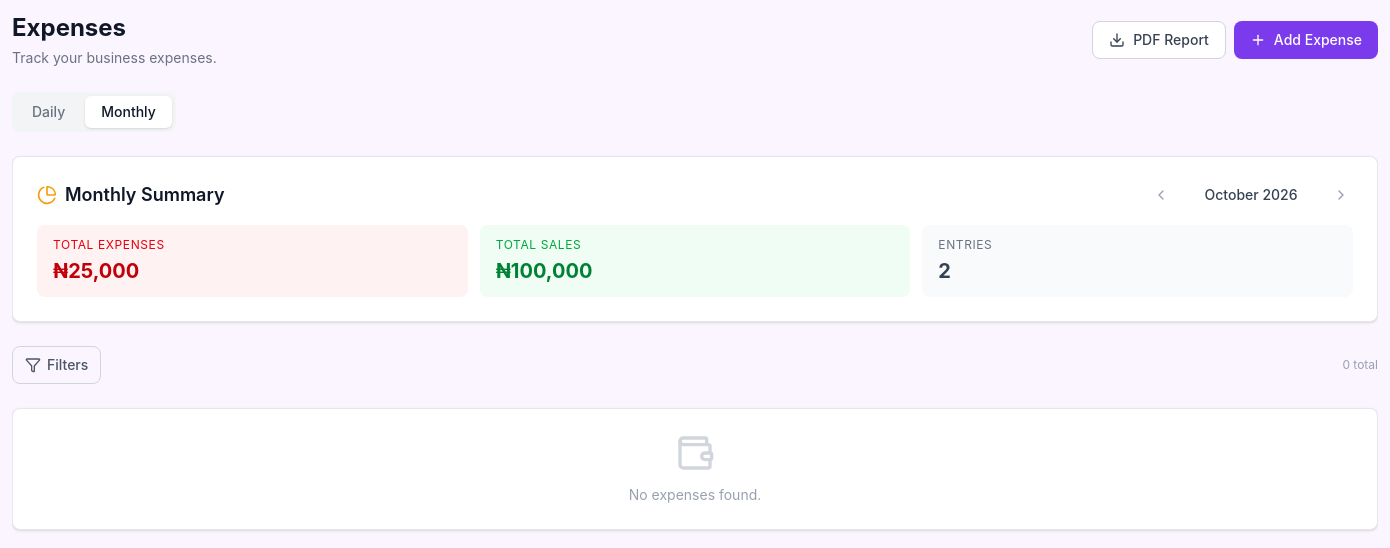
Scenario: Expenses Page - Race Condition & Sequence Guard Tests (Phase 4) › discards an earlier slow summary response when month is switched rapidly
Expected: the text "Loading summary..." is not shown
Expected: the text "Total Expenses" is shown, [53,237,165,252]
Note: Click left (Call 1 - slow)
Click the 5th button at (1161, 195), box [1149,183,1173,207]
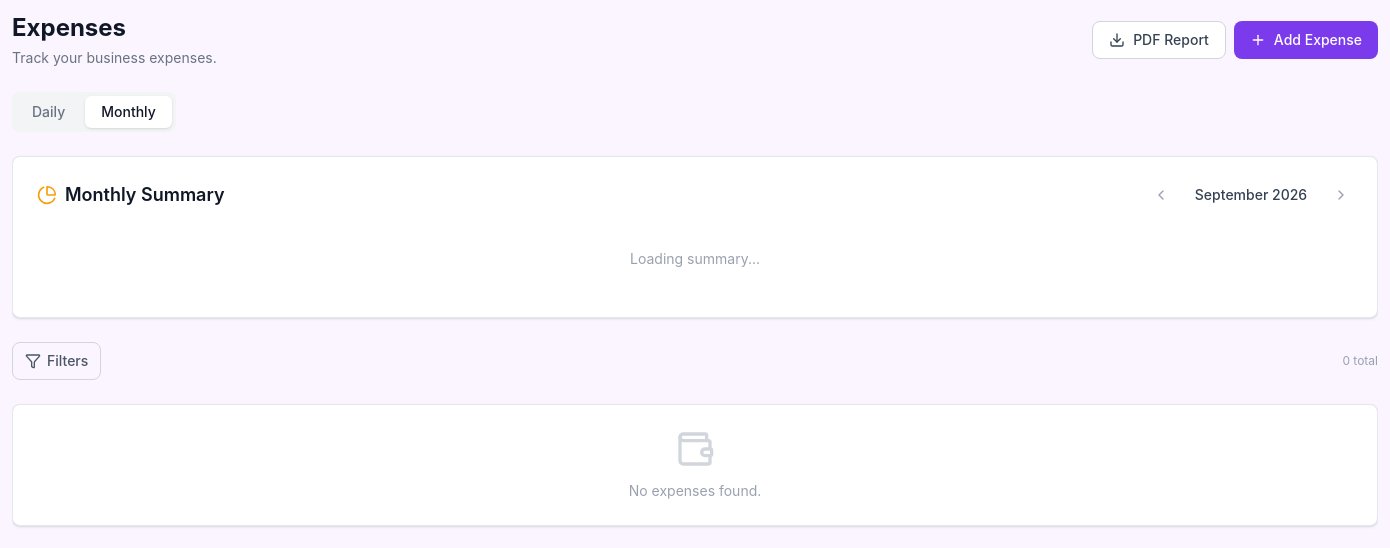
Note: Click right (Call 2 - fast)
Click the 6th button at (1341, 195), box [1329,183,1353,207]
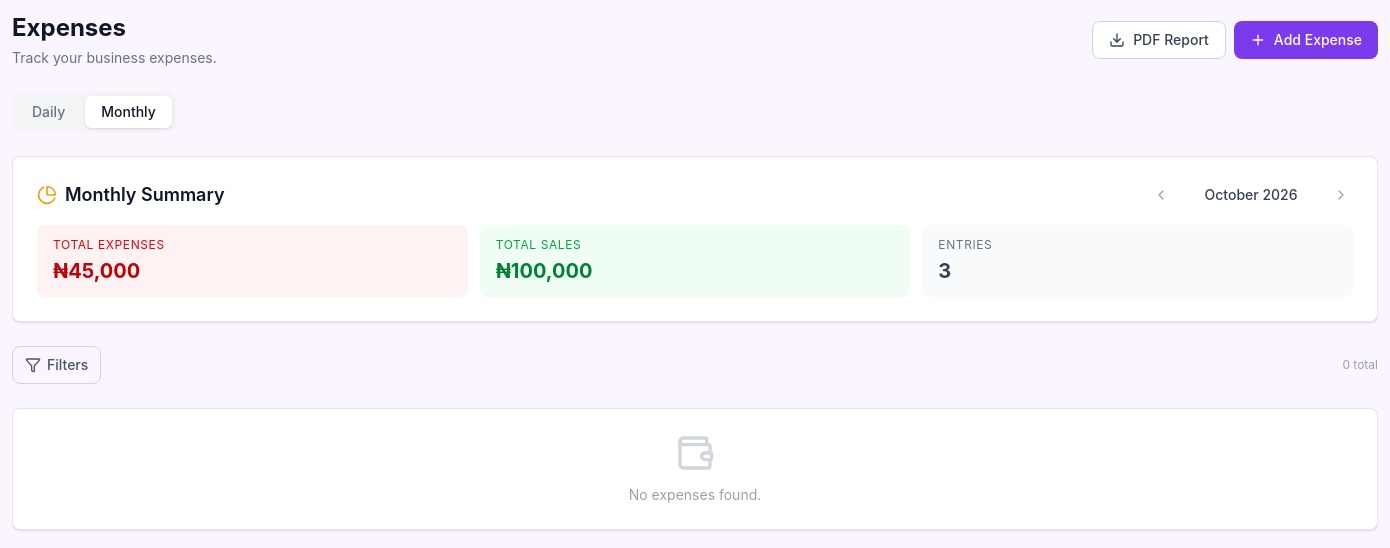
Now the text "₦45,000" is shown, box [53,259,140,283]
